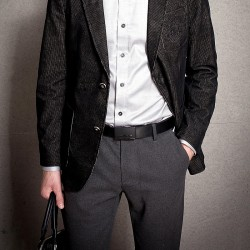F_M_suit jacket: (38, 1, 214, 171)
F_belt: (90, 117, 176, 142)
F_dress pants: (63, 128, 186, 250)
